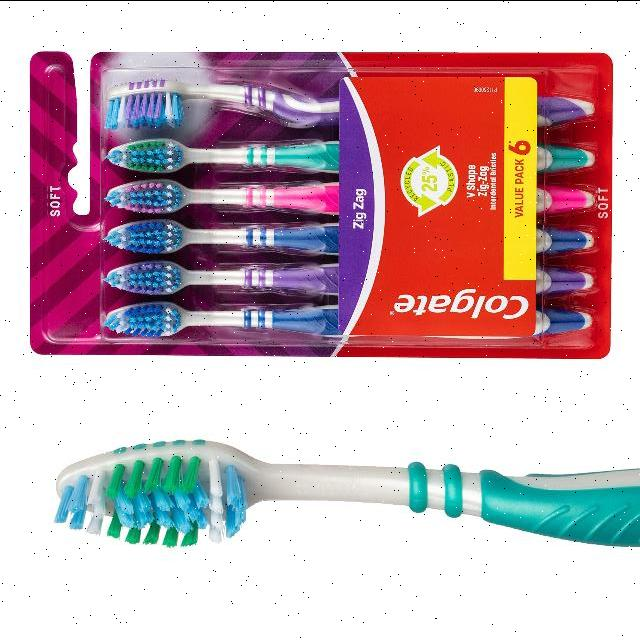toothbrush: (12, 402, 640, 586)
